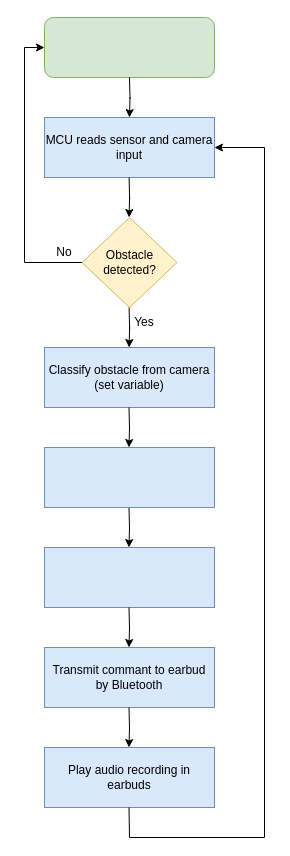
Some shapes in this 290 by 856 pixel diagram are drawn without their labels. The shapes that lost their labels are listed below. From the top down, each one's centre as x and y in pixels, then its label:
point (129, 47): Start
point (129, 477): Identify location from Ultrasonic and LiDAR
point (129, 577): Select audio recording of obstacle classification and location
